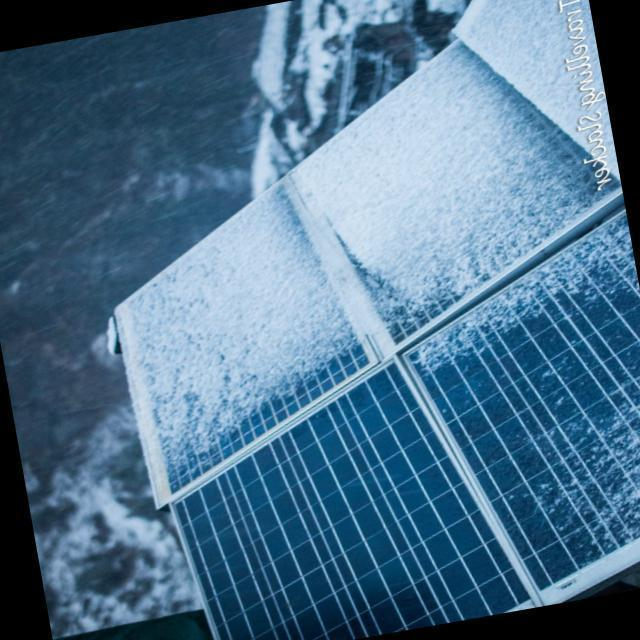Anomaly Solar Panel: (285, 39, 640, 606), (116, 176, 540, 636)
Snow: (100, 42, 617, 481)
